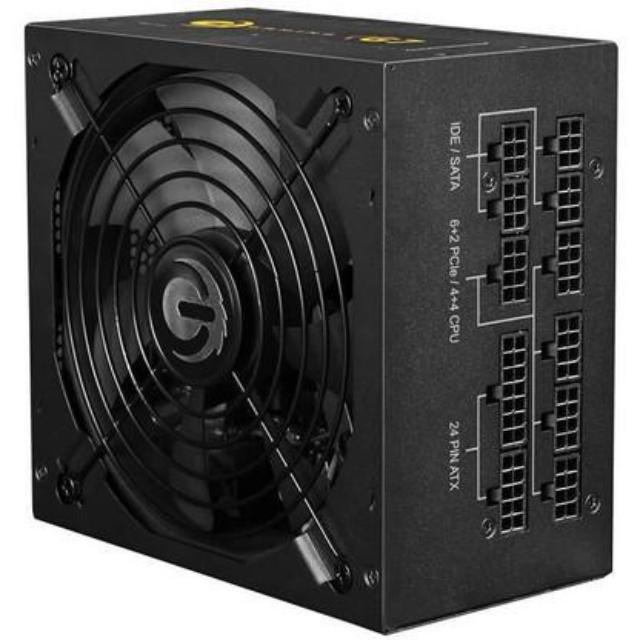PSU: (22, 0, 628, 640)
